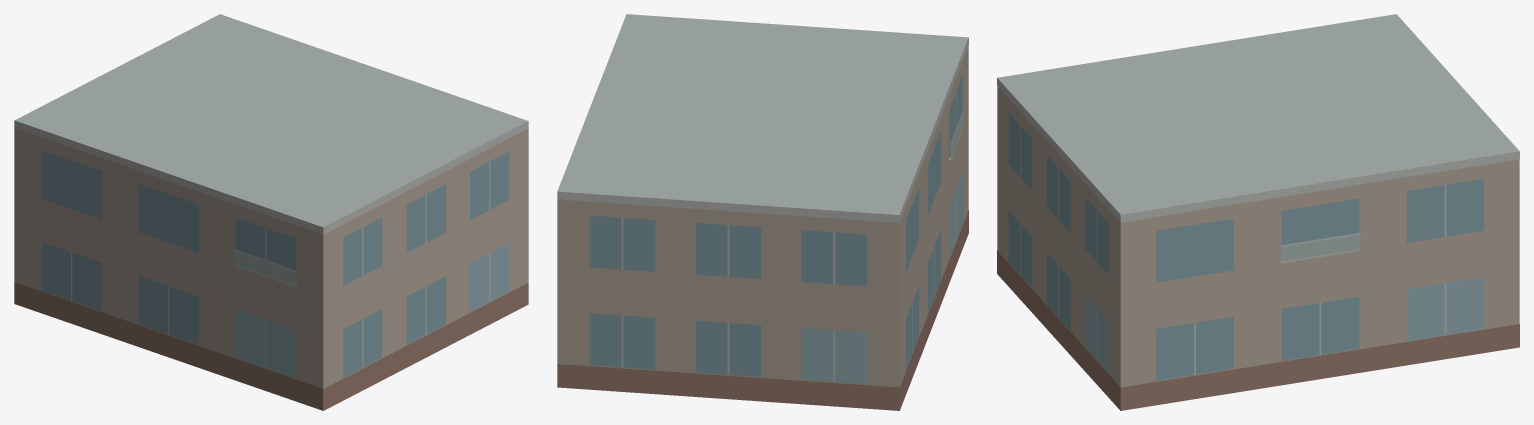
The model's file is survey-upis-32820511.glb.
3 views of the same model, side by side, from view 1: azimuth 30°, elevation 25°; view 2: azimuth 150°, elevation 25°; view 3: azimuth 270°, elevation 25° (orthographic). The views are drawn at different scales.
Parts seen in each view (by area): view 1: survey-upis-32820511.tmp; view 2: survey-upis-32820511.tmp; view 3: survey-upis-32820511.tmp.
Part boxes in pixels (left/top/right/bottom): survey-upis-32820511.tmp: left=14, top=14, right=528, bottom=410; survey-upis-32820511.tmp: left=557, top=14, right=968, bottom=410; survey-upis-32820511.tmp: left=997, top=14, right=1519, bottom=410.
Bounding box in the file's own units: 13.41 × 6.1 × 14.75.
